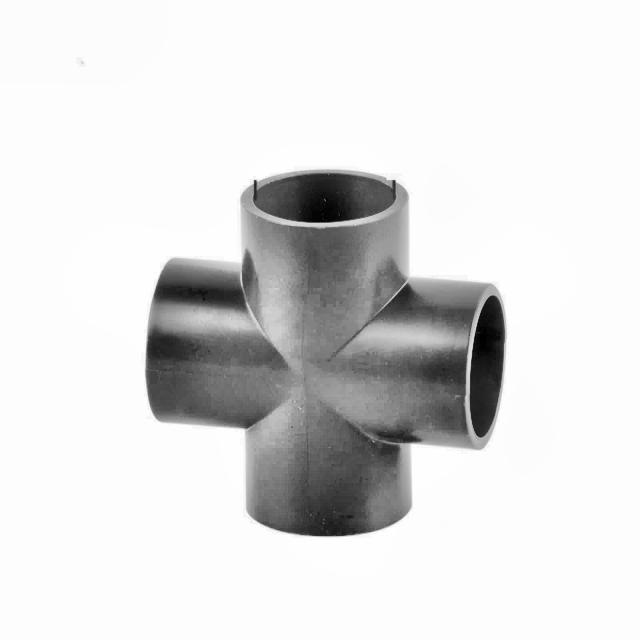EQUALCROSS: (144, 169, 508, 540)
